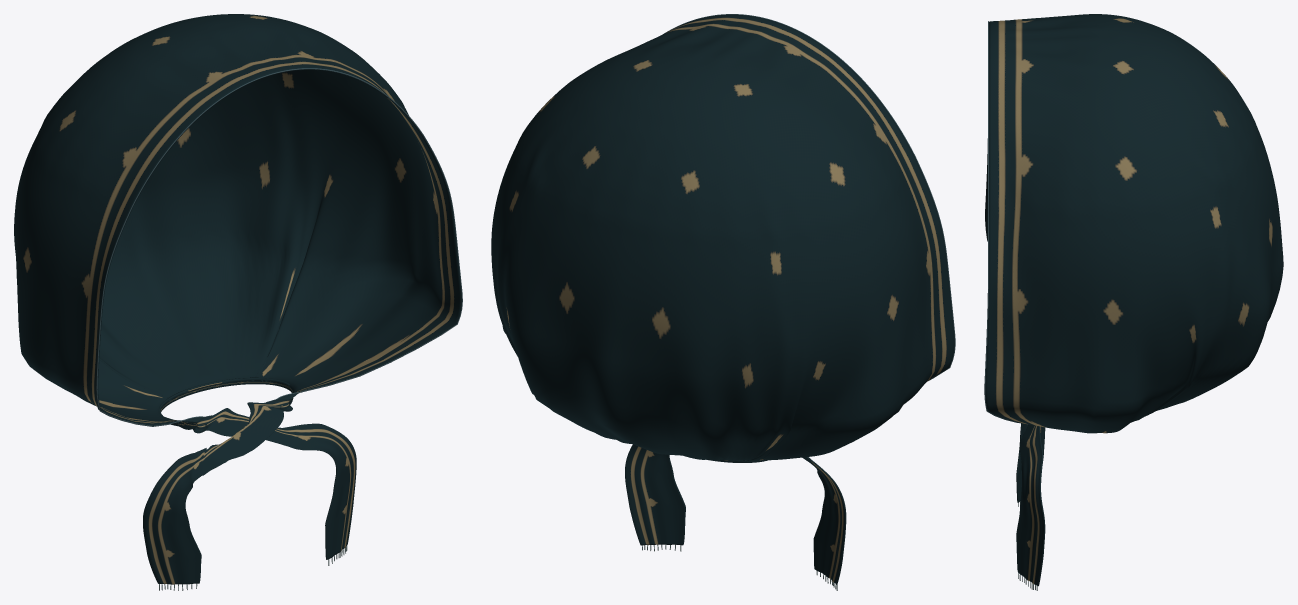
The model's file is Masculine-sweatshirt-pashmina245-headgear.glb.
3 views of the same model, side by side, from view 1: azimuth 30°, elevation 25°; view 2: azimuth 150°, elevation 25°; view 3: azimuth 270°, elevation 25° (orthographic). The views are drawn at different scales.
Parts seen in each view (by area): view 1: 226 headgear / Headwear / continuous woven pashmina239, 226 headgear / Headwear / face edge239; view 2: 226 headgear / Headwear / continuous woven pashmina239, 226 headgear / Headwear / face edge239; view 3: 226 headgear / Headwear / continuous woven pashmina239, 226 headgear / Headwear / face edge239.
Part boxes in pixels (<box>): 226 headgear / Headwear / continuous woven pashmina239: <box>14,14,461,584</box>; 226 headgear / Headwear / face edge239: <box>96,68,462,426</box>; 226 headgear / Headwear / continuous woven pashmina239: <box>491,14,954,584</box>; 226 headgear / Headwear / face edge239: <box>664,14,955,380</box>; 226 headgear / Headwear / continuous woven pashmina239: <box>985,14,1283,586</box>; 226 headgear / Headwear / face edge239: <box>984,21,1022,423</box>.
Size of the model in its own units: 1.03 by 1.35 by 0.7127.
Materials: 3 (1 with a texture image).
